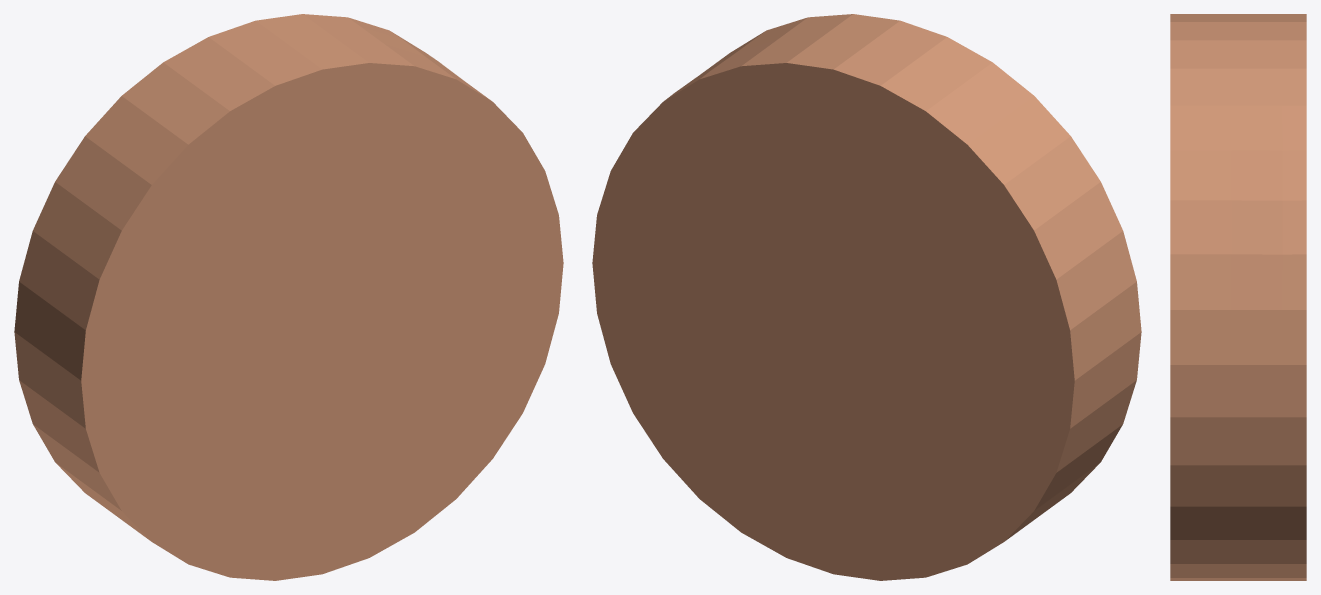
The model's file is Cilindro.glb.
The picture shows the model from 3 angles, left to right: view 1: azimuth 30°, elevation 25°; view 2: azimuth 150°, elevation 25°; view 3: azimuth 270°, elevation 25°; orthographic projection.
Visible parts, largest first — view 1: Cylinder; view 2: Cylinder; view 3: Cylinder.
Boxes of the visible parts, x1,y1,x2,y2 form: Cylinder: [14, 14, 563, 580]; Cylinder: [592, 14, 1141, 580]; Cylinder: [1170, 14, 1306, 580].
Bounding box in the file's own units: 2 × 2 × 0.48.
